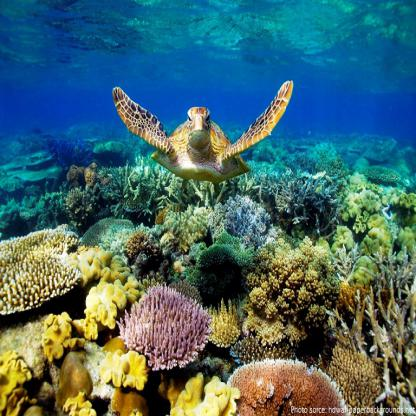turtle: (184, 102, 213, 155)
